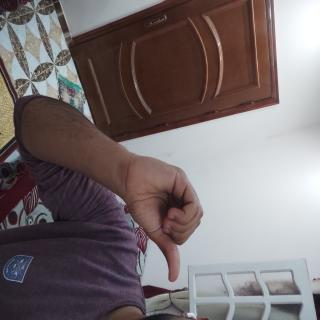WAW: (110, 148, 216, 270)
